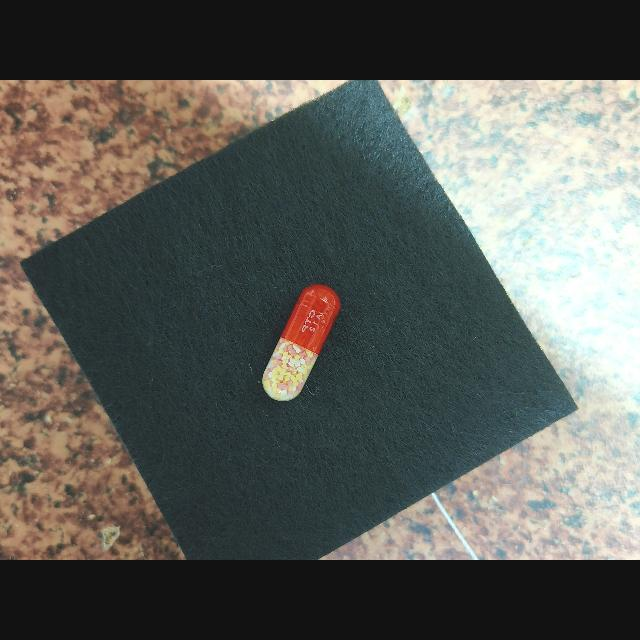Intact Capsule: (262, 284, 340, 401)
